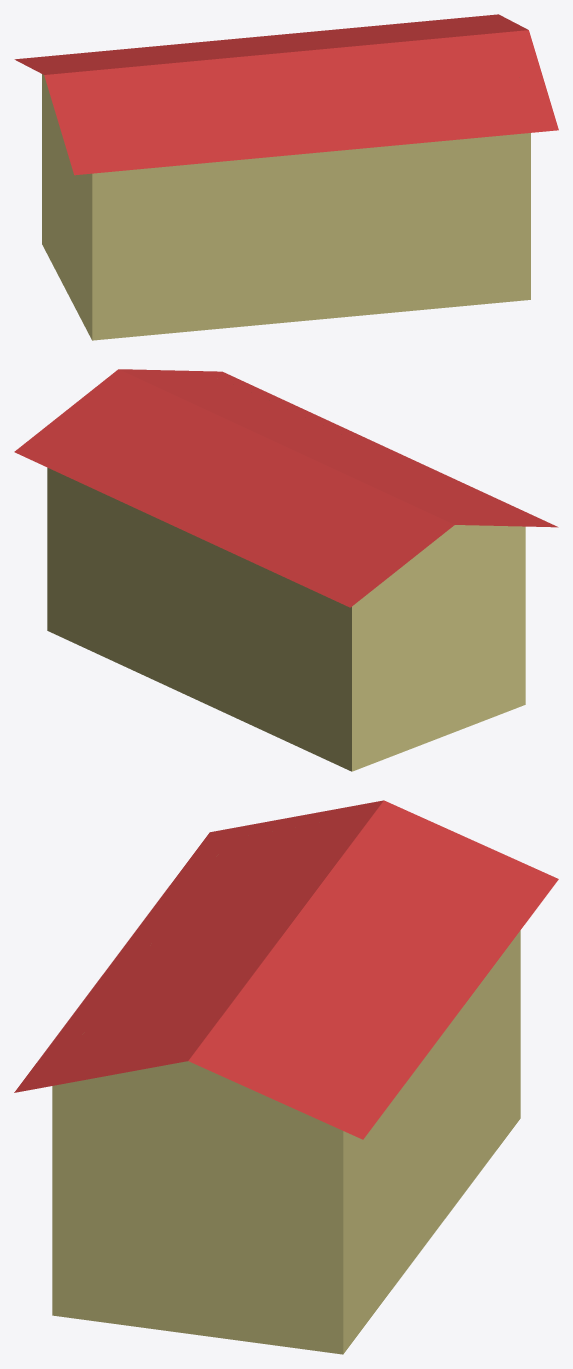
3 renders of one model, top to bottom at view 1: azimuth 30°, elevation 25°; view 2: azimuth 150°, elevation 25°; view 3: azimuth 270°, elevation 25°, orthographic. The views are drawn at different scales.
Bounding box in the file's own units: 17.83 × 13.35 × 7.74.
